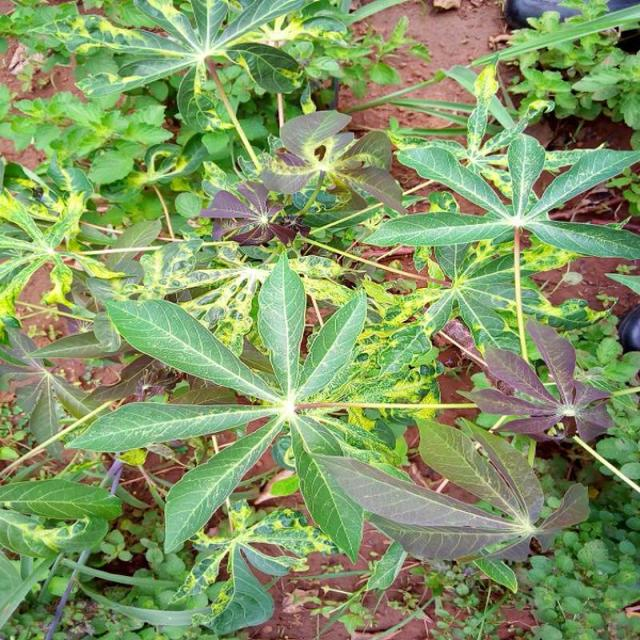cassava leaf: (106, 296, 280, 403)
